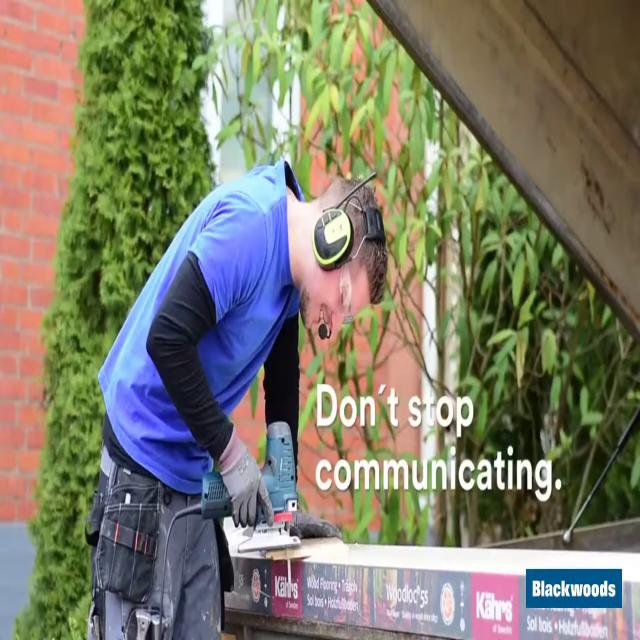earmuff: (312, 204, 356, 263)
glasses: (336, 262, 356, 331)
